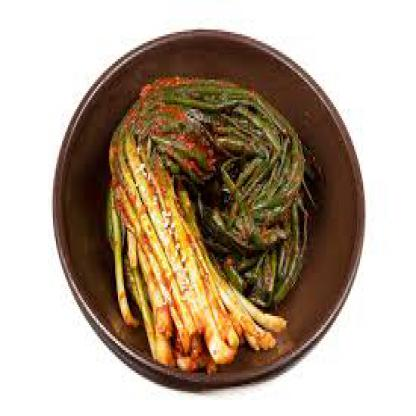green onion Kimchi: (112, 75, 310, 352)
